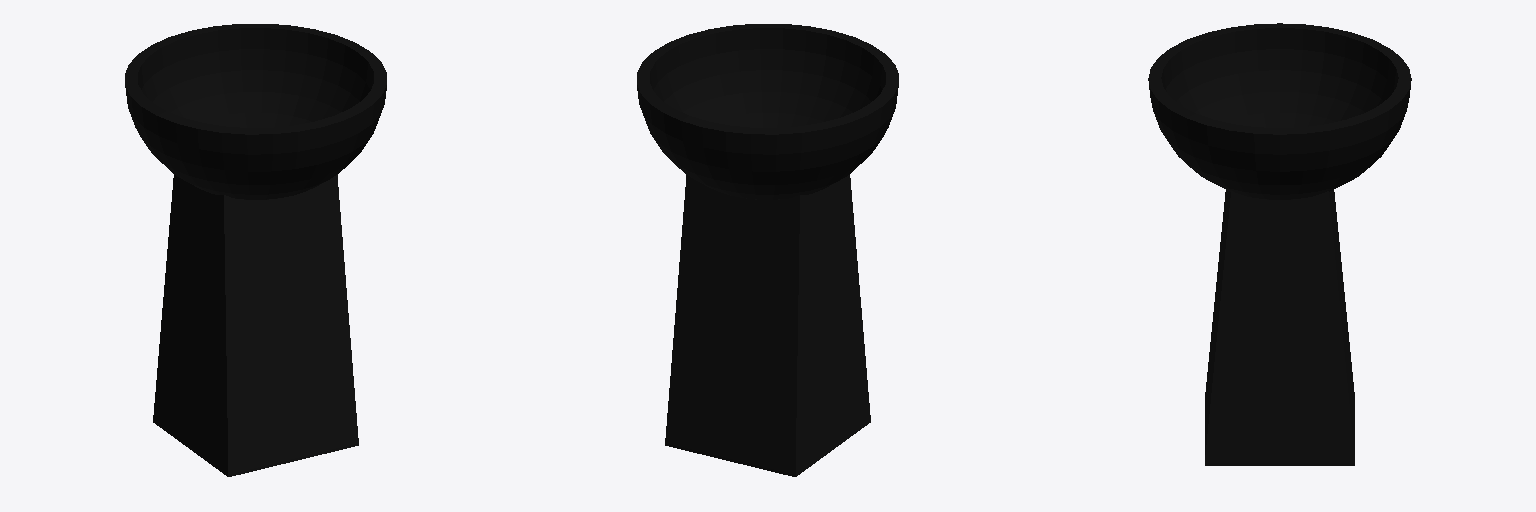
The model's file is brazier.obj.
3 renders of one model, left to right at view 1: azimuth 30°, elevation 25°; view 2: azimuth 150°, elevation 25°; view 3: azimuth 270°, elevation 25°, orthographic.
Parts seen in each view (by area): view 1: Sphere; view 2: Sphere; view 3: Sphere.
Part boxes in pixels (x1,y1,x2,y2): Sphere: (125,24,386,476); Sphere: (637,24,898,476); Sphere: (1148,23,1411,465).
Size of the model in its own units: 1.75 by 2.61 by 1.75.